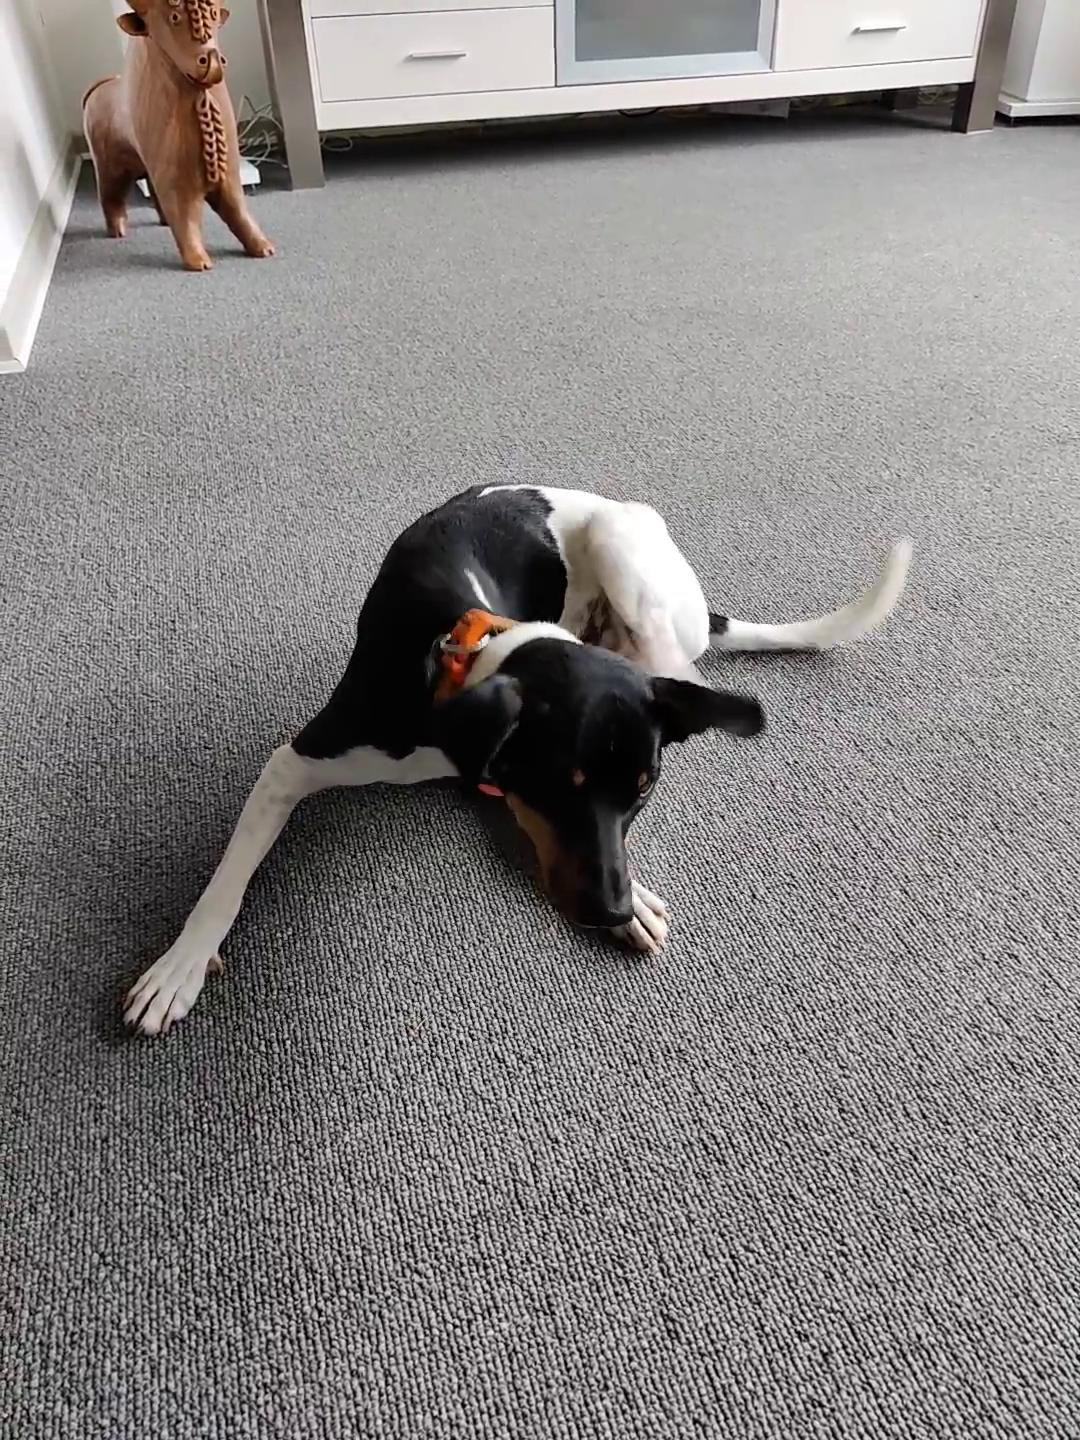Dog: (117, 478, 912, 1048)
